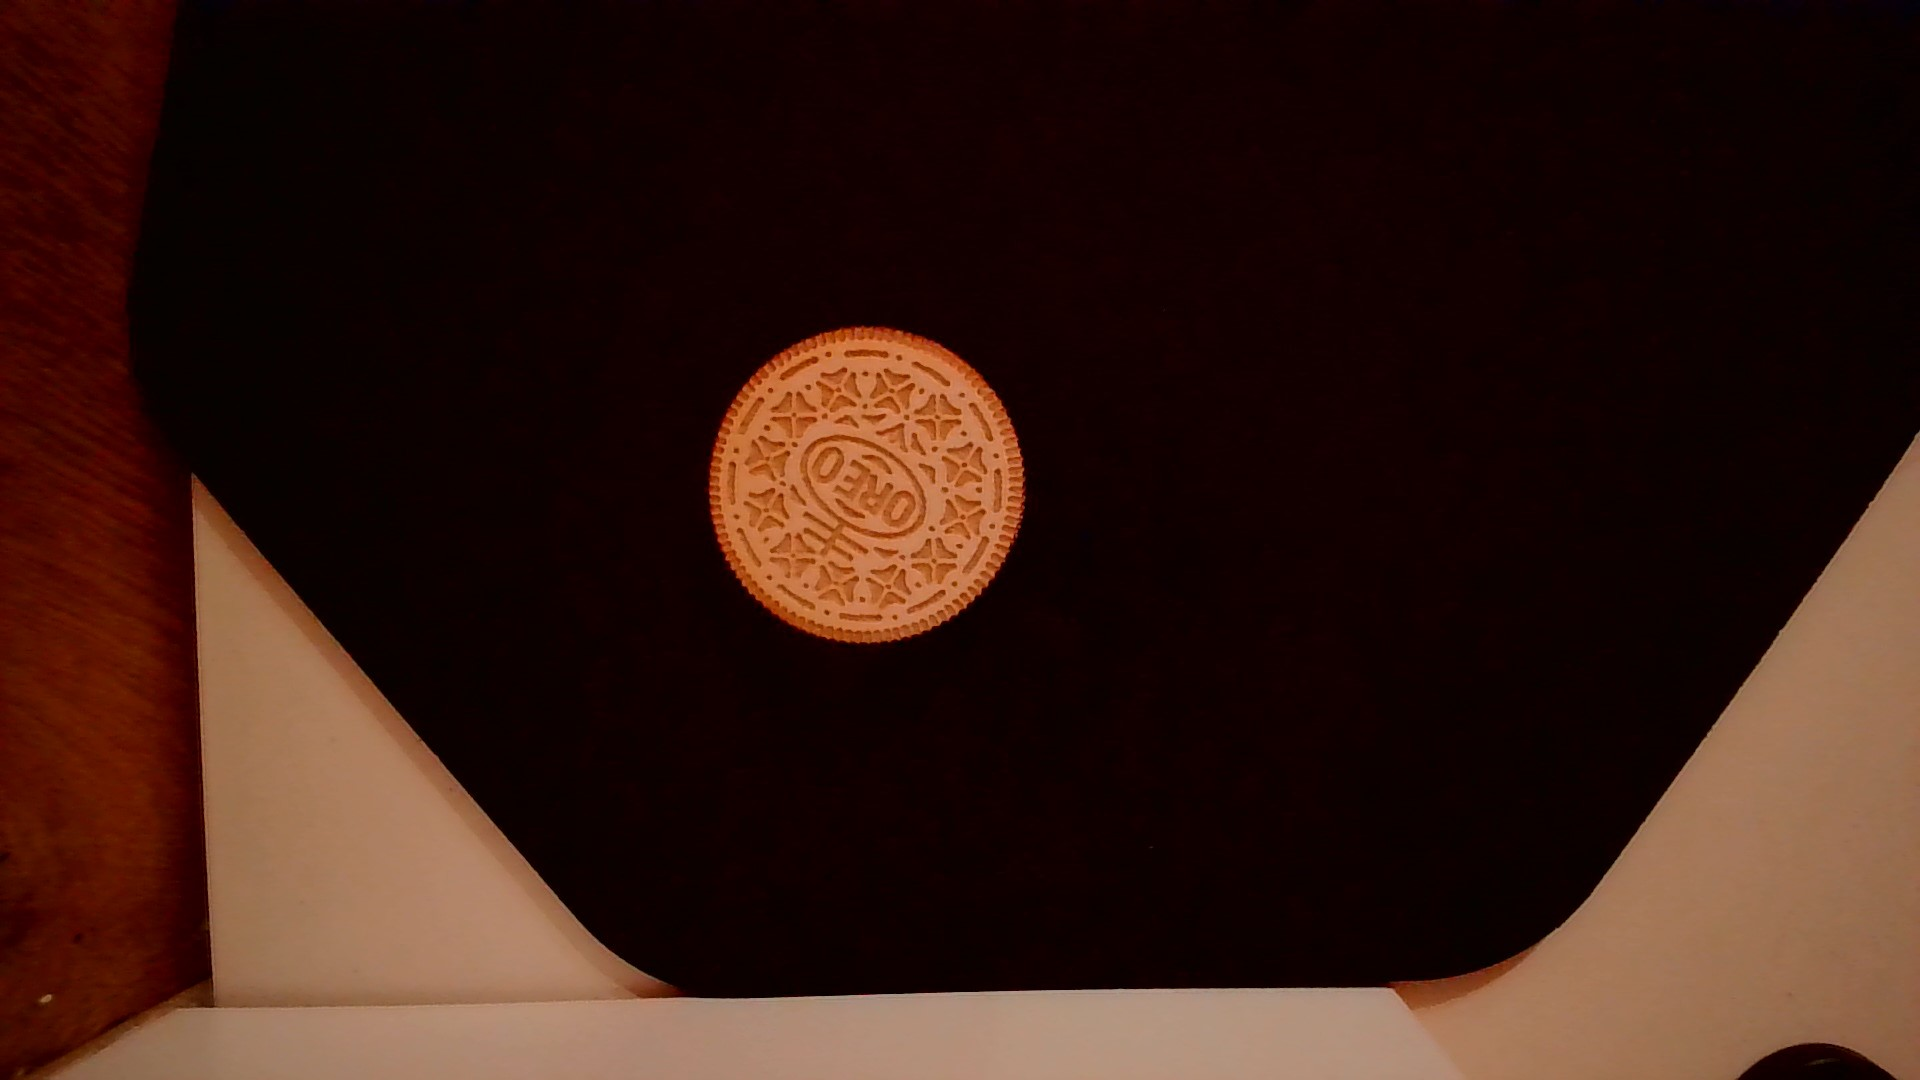Oréo: (696, 320, 1034, 663)
